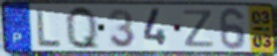3: (106, 7, 137, 49)
4: (142, 6, 172, 51)
6: (219, 6, 246, 52)
L: (34, 7, 63, 49)
Q: (63, 4, 102, 52)
Z: (181, 8, 216, 49)
